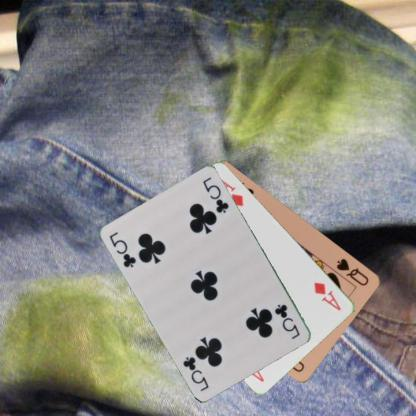5c: (107, 230, 138, 270), (272, 301, 302, 341)
Ad: (312, 279, 342, 312)
Qs: (334, 256, 370, 288)
